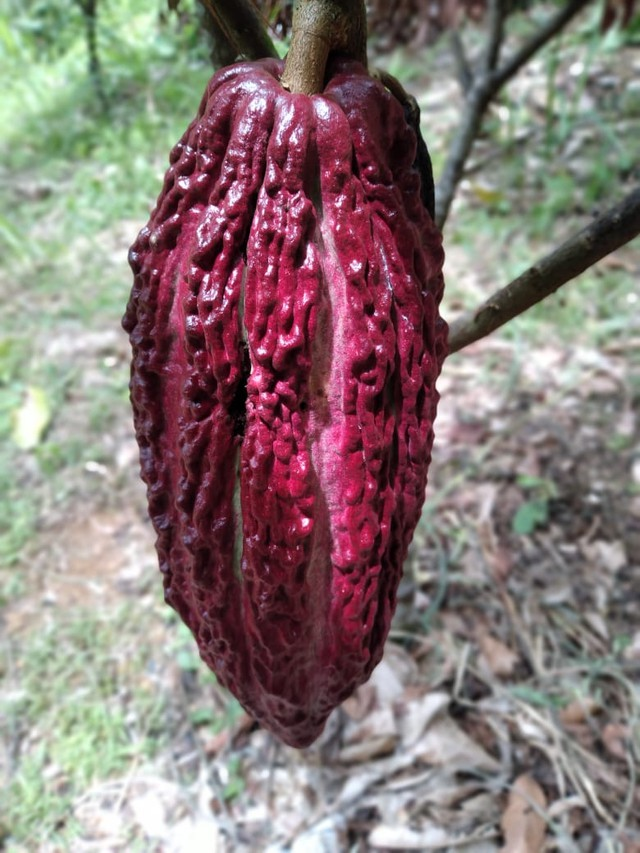carmenta foraseminis: (120, 52, 454, 754)
